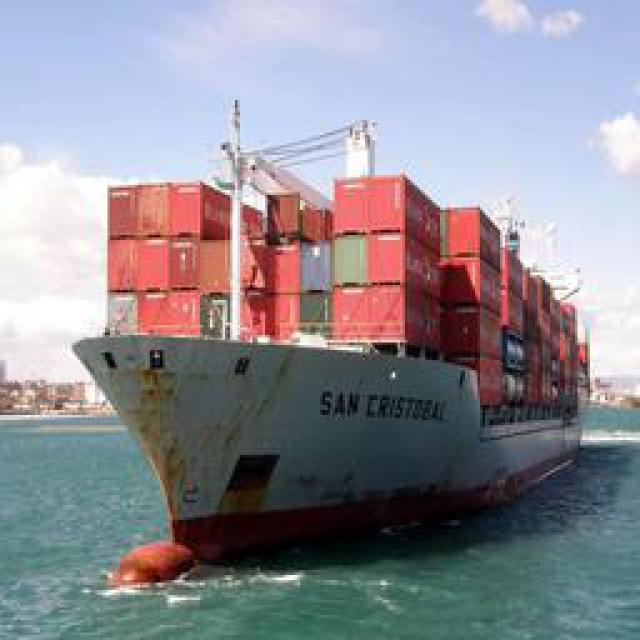Ship: (75, 90, 598, 588)
